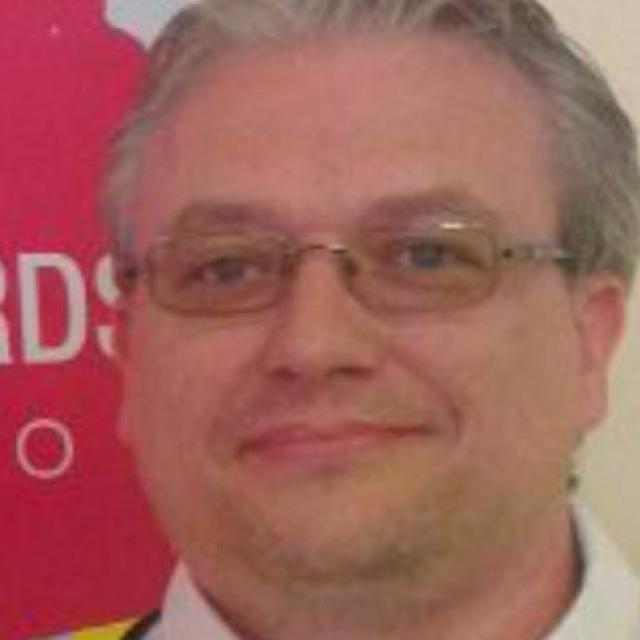Normal: (125, 25, 587, 589)
